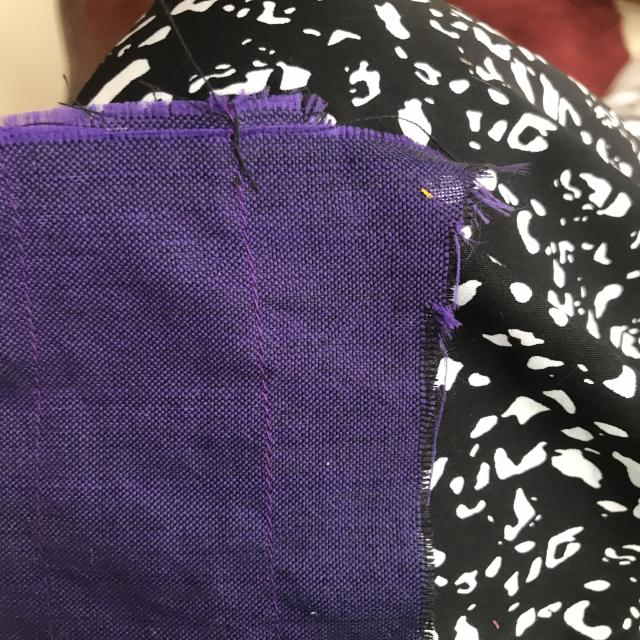good: (255, 392, 288, 538)
